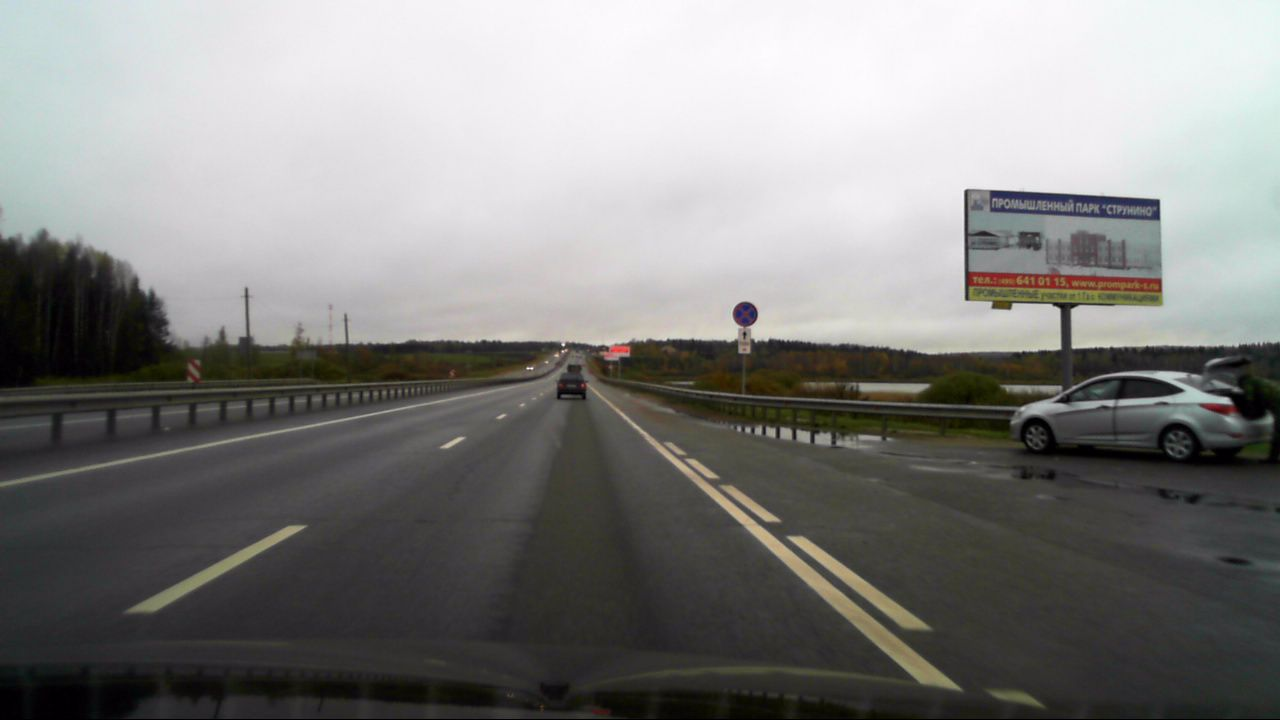No Parking: (732, 301, 758, 326)
